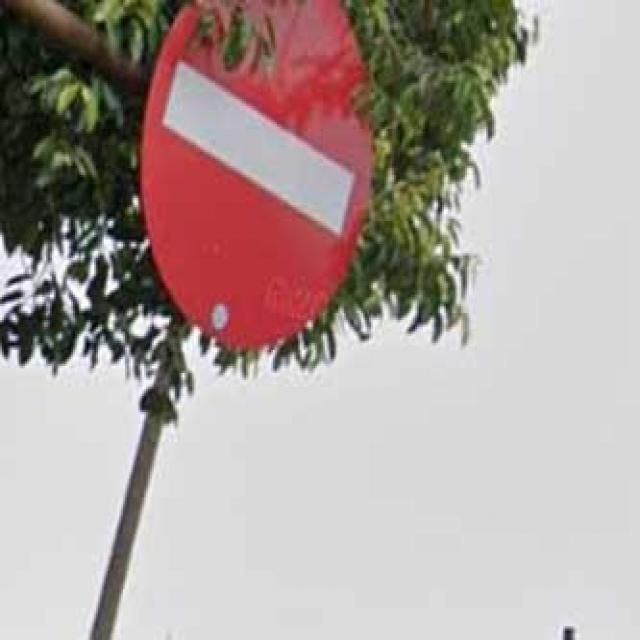traffic sign: (146, 2, 374, 342)
